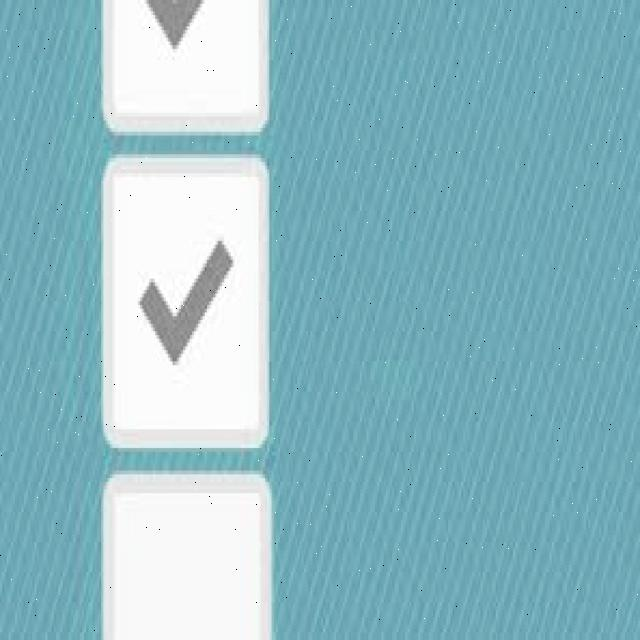checkbox: (97, 153, 274, 457)
